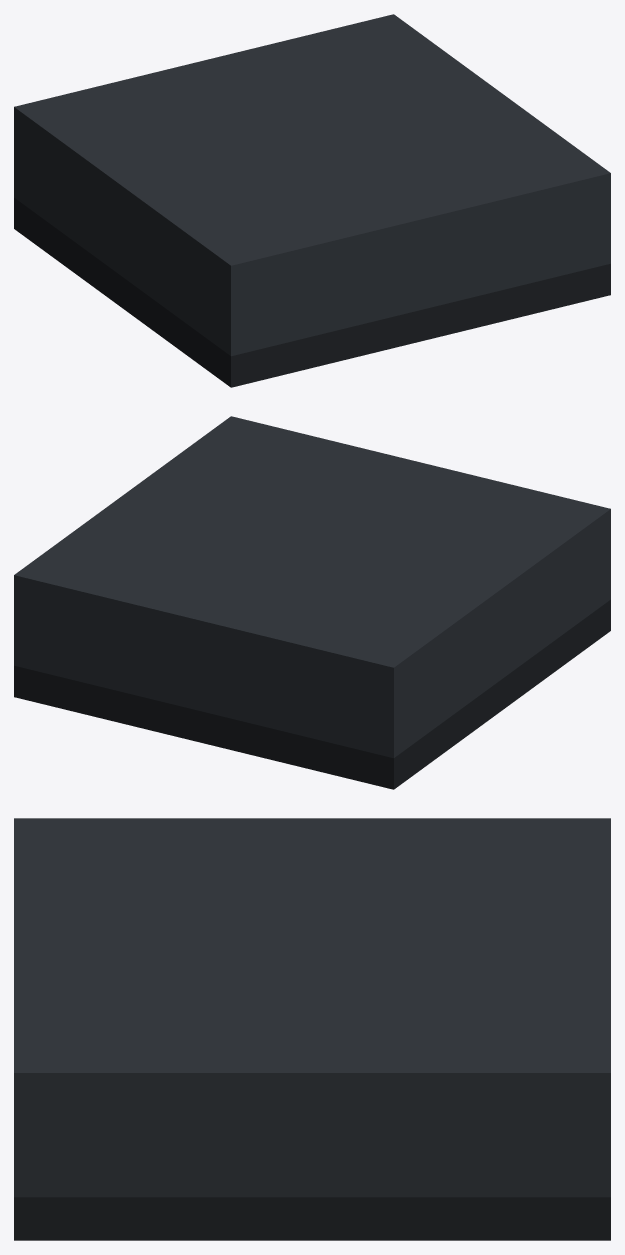
The model's file is inf_possum_foot_l.fbx.
3 views of the same model, one above another, from view 1: azimuth 30°, elevation 25°; view 2: azimuth 150°, elevation 25°; view 3: azimuth 270°, elevation 25° (orthographic). The views are drawn at different scales.
Parts seen in each view (by area): view 1: inf_possum_foot_l; view 2: inf_possum_foot_l; view 3: inf_possum_foot_l.
Part boxes in pixels (bbox=[...]): inf_possum_foot_l: bbox=[14, 14, 610, 387]; inf_possum_foot_l: bbox=[14, 416, 610, 789]; inf_possum_foot_l: bbox=[14, 818, 610, 1240].
Bounding box in the file's own units: 101 × 31 × 100.
